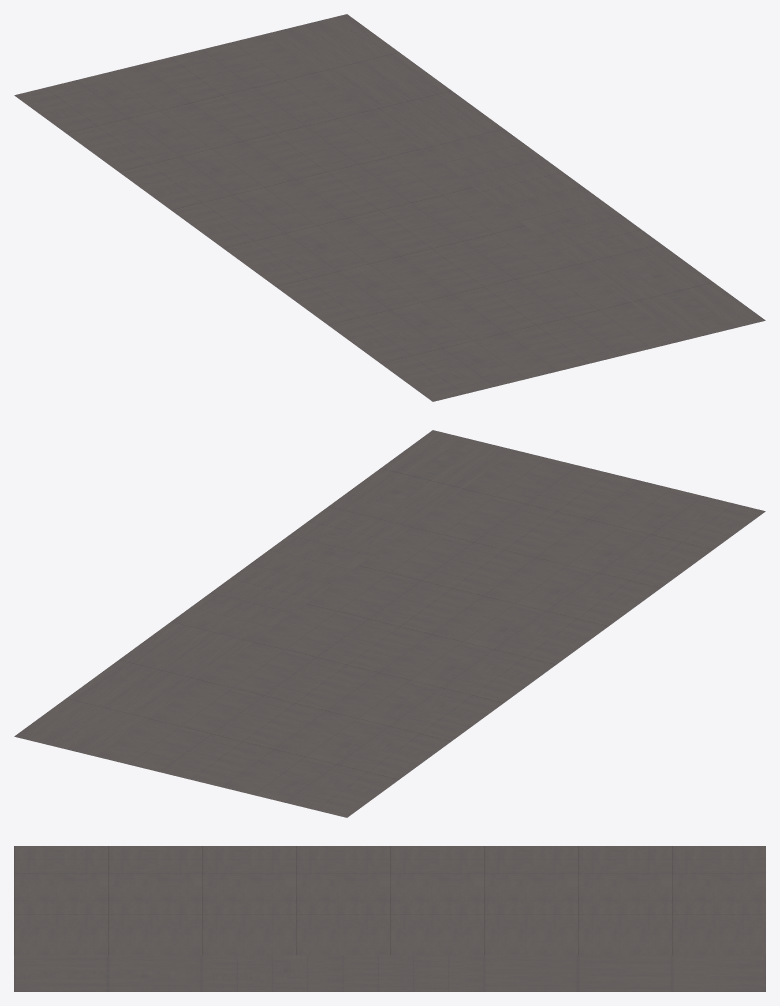
The model's file is hall_ground.fbx.
3 renders of one model, top to bottom at view 1: azimuth 30°, elevation 25°; view 2: azimuth 150°, elevation 25°; view 3: azimuth 270°, elevation 25°, orthographic. The views are drawn at different scales.
Visible parts, largest first — view 1: hall_ground.001; view 2: hall_ground.001; view 3: hall_ground.001.
Part boxes in pixels (x1,y1,x2,y2): hall_ground.001: (14, 14, 765, 401); hall_ground.001: (14, 430, 765, 817); hall_ground.001: (14, 846, 765, 991).
Size of the model in its own units: 1869 by 0.000663 by 4071.
1 material, 1 textured.
